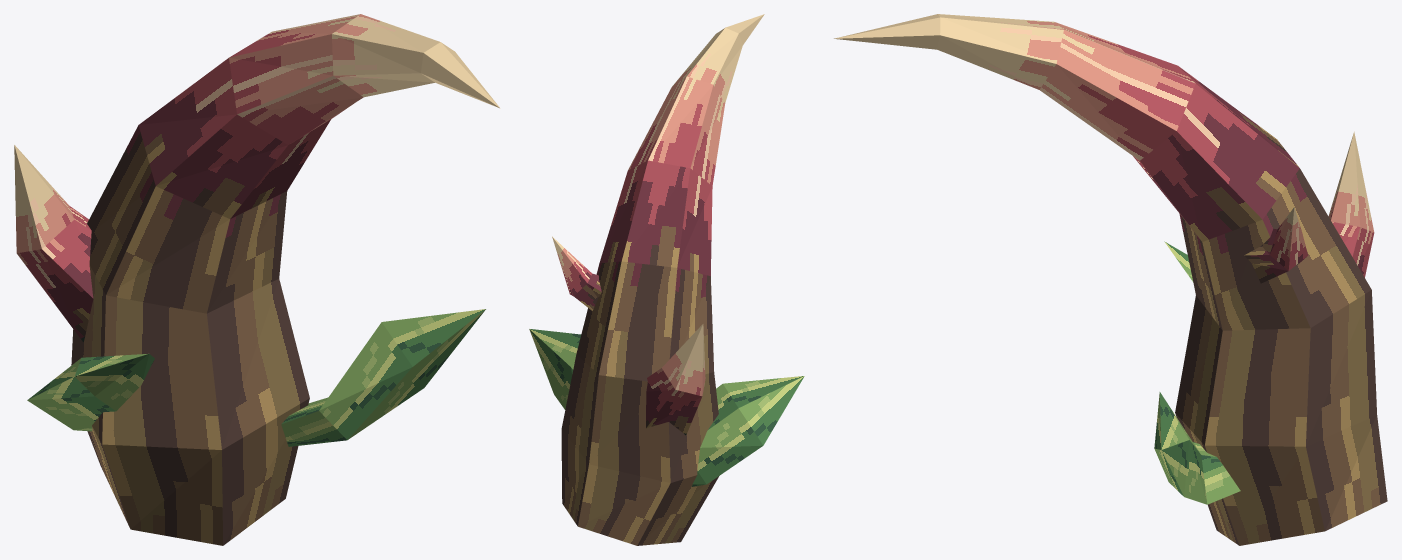
Rendered from briar_hook.obj.
The picture shows the model from 3 angles, left to right: view 1: azimuth 30°, elevation 25°; view 2: azimuth 150°, elevation 25°; view 3: azimuth 270°, elevation 25°; orthographic projection. The views are drawn at different scales.
Visible parts, largest first — view 1: hook, leaf_right, back_spur, leaf_left; view 2: hook, leaf_left, back_spur, leaf_right, small_prickle; view 3: hook, leaf_right, back_spur, small_prickle.
Boxes of the visible parts, <box> form: hook: <box>71,14,500,545</box>; leaf_right: <box>281,309,485,446</box>; back_spur: <box>14,145,93,341</box>; leaf_left: <box>27,353,154,431</box>; hook: <box>561,14,764,545</box>; leaf_left: <box>692,376,804,486</box>; back_spur: <box>646,324,705,435</box>; leaf_right: <box>529,329,581,409</box>; small_prickle: <box>552,236,601,310</box>; hook: <box>834,14,1387,545</box>; leaf_right: <box>1154,392,1240,504</box>; back_spur: <box>1328,131,1374,277</box>; small_prickle: <box>1244,207,1308,283</box>.
Bounding box in the file's own units: 1.03 × 1.43 × 1.33.
